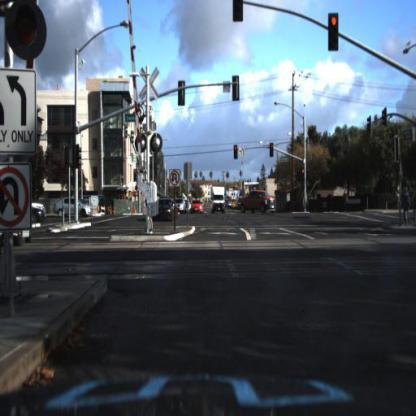biker: (399, 185, 411, 227)
car: (56, 193, 93, 222), (245, 193, 276, 214), (160, 200, 178, 220), (190, 201, 204, 217), (179, 196, 188, 216)
pedestrian: (401, 167, 414, 232), (340, 183, 353, 219), (342, 190, 353, 213), (411, 184, 416, 219)
trafficLight: (232, 1, 244, 25), (234, 140, 239, 162)
trafficLight-Red: (329, 11, 340, 49), (300, 160, 306, 178), (270, 141, 276, 158), (302, 165, 307, 177)
truck: (213, 184, 227, 215)
